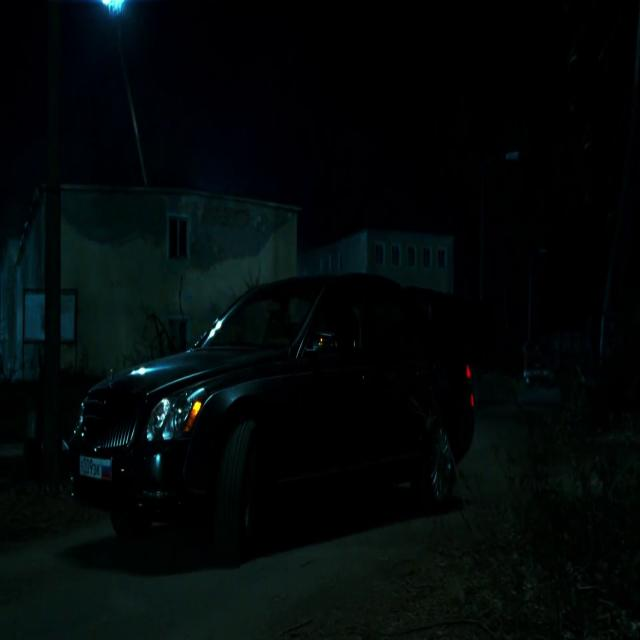car: (66, 260, 497, 533)
